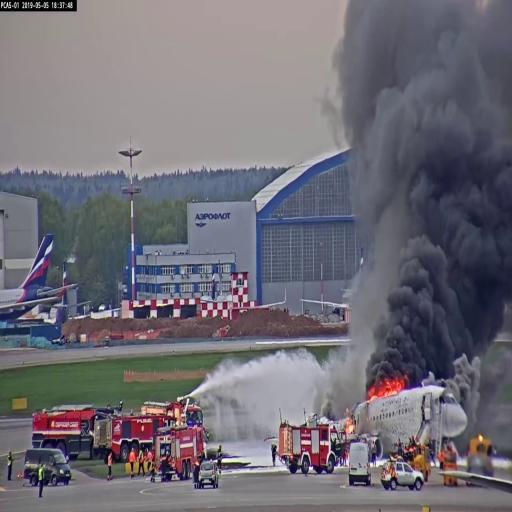fire: (364, 369, 406, 400)
smoke: (370, 146, 512, 372)
